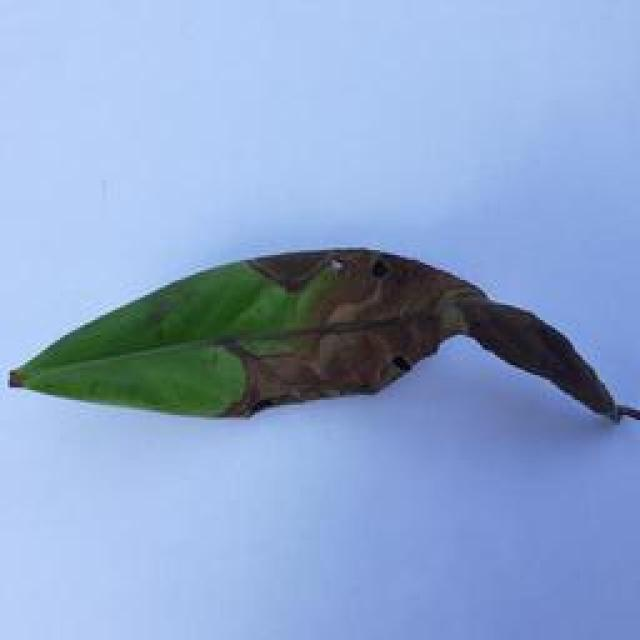Brown Blight: (0, 237, 640, 439)
